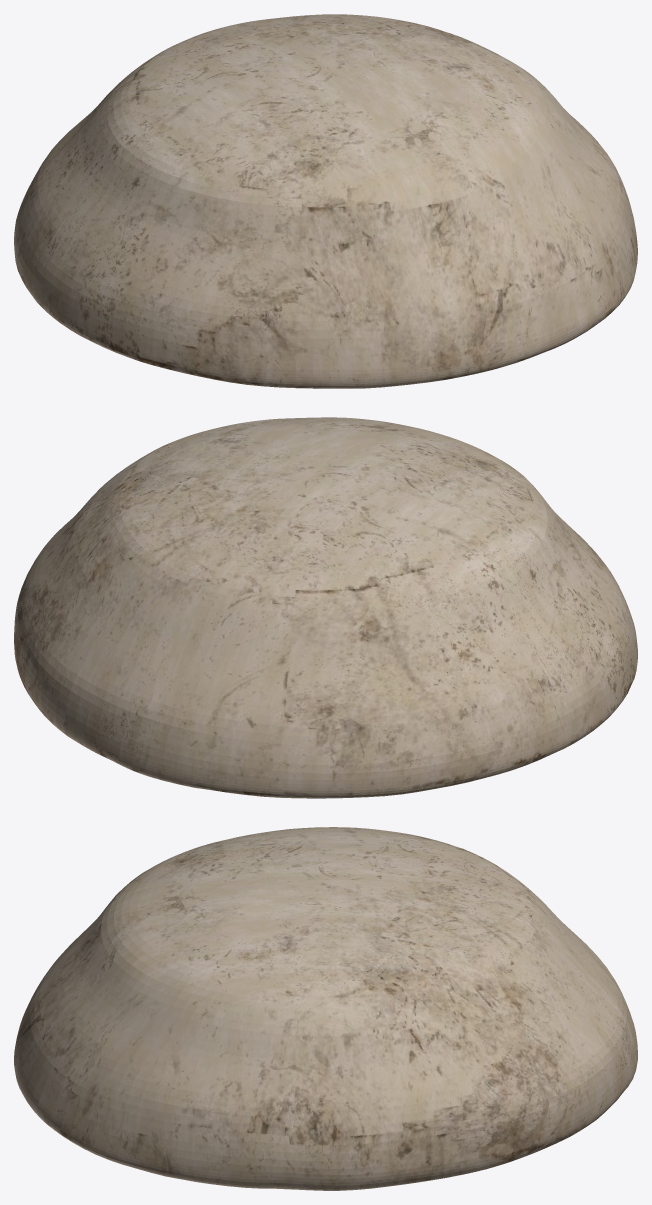
Rendered from topTeeth.gltf.
The picture shows the model from 3 angles, top to bottom: view 1: azimuth 30°, elevation 25°; view 2: azimuth 150°, elevation 25°; view 3: azimuth 270°, elevation 25°; orthographic projection. The views are drawn at different scales.
Visible parts, largest first — view 1: Retopo_middle-top.002; view 2: Retopo_middle-top.002; view 3: Retopo_middle-top.002.
Boxes of the visible parts, bbox=[...] form: Retopo_middle-top.002: bbox=[14, 14, 637, 388]; Retopo_middle-top.002: bbox=[14, 417, 637, 798]; Retopo_middle-top.002: bbox=[14, 827, 637, 1190].
Bounding box in the file's own units: 4.27 × 1.47 × 4.33.
1 material, 1 textured.
